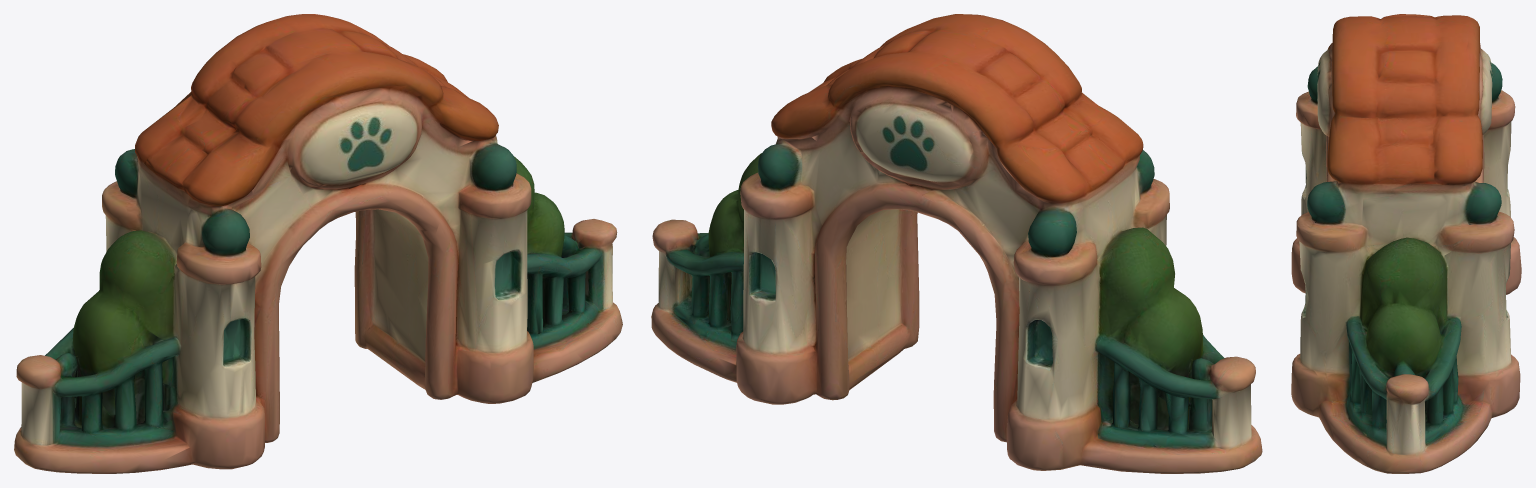
The model's file is facility-zoo.glb.
3 renders of one model, left to right at view 1: azimuth 30°, elevation 25°; view 2: azimuth 150°, elevation 25°; view 3: azimuth 270°, elevation 25°, orthographic. The views are drawn at different scales.
Visible parts, largest first — view 1: Mesh_0; view 2: Mesh_0; view 3: Mesh_0.
Part boxes in pixels (x1=…): Mesh_0: x1=14, y1=14, x2=622, y2=473; Mesh_0: x1=651, y1=14, x2=1262, y2=473; Mesh_0: x1=1291, y1=14, x2=1521, y2=473.
Bounding box in the file's own units: 2 × 1.14 × 0.7408.
Materials: 1 (1 with a texture image).
